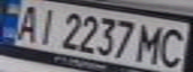2: (54, 9, 84, 52), (75, 11, 100, 55)
3: (93, 15, 121, 57)
7: (112, 17, 139, 61)
A: (9, 2, 45, 43)
C: (154, 25, 190, 69)
I: (30, 4, 63, 46)
M: (136, 21, 169, 65)
